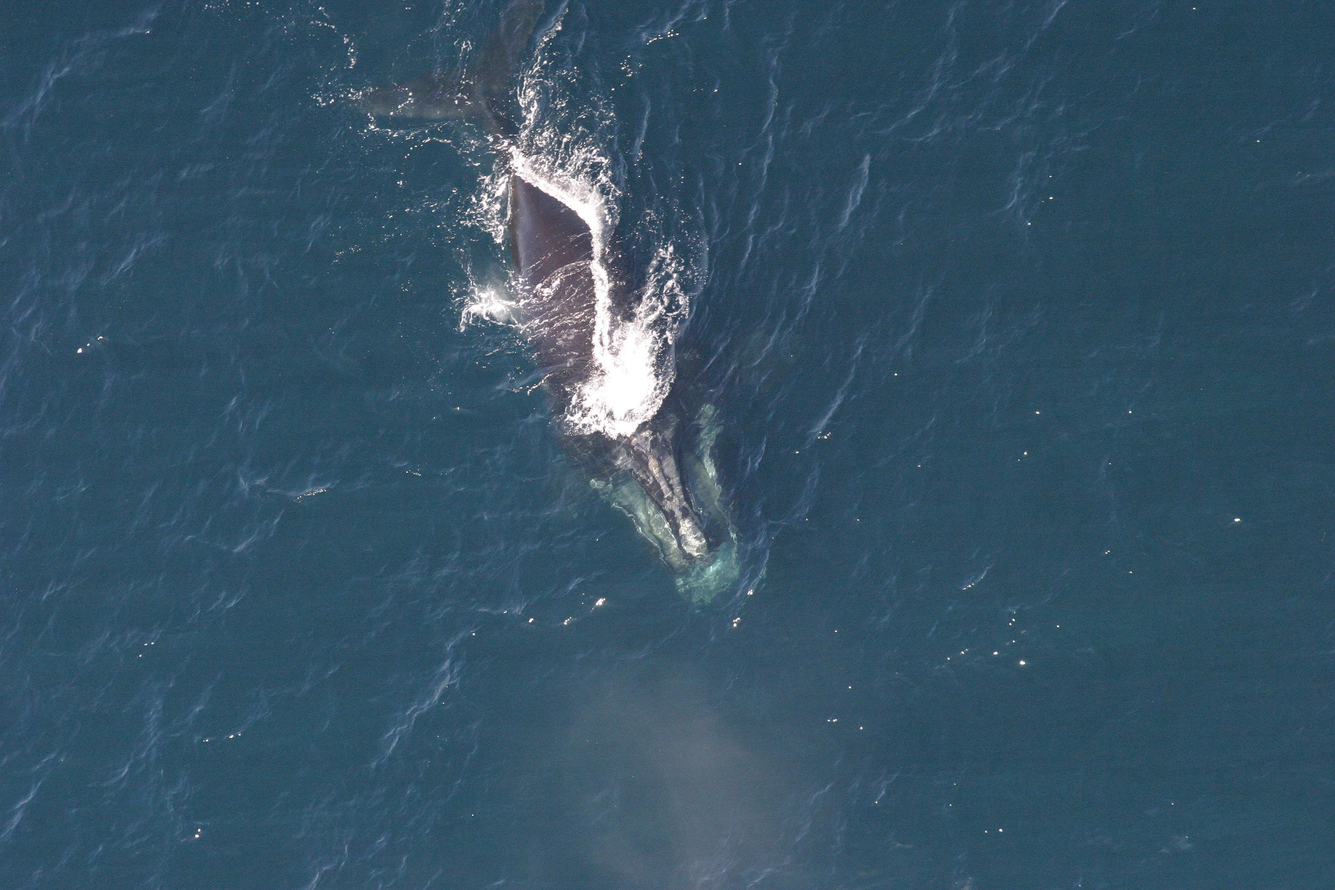whale: (331, 0, 756, 620)
